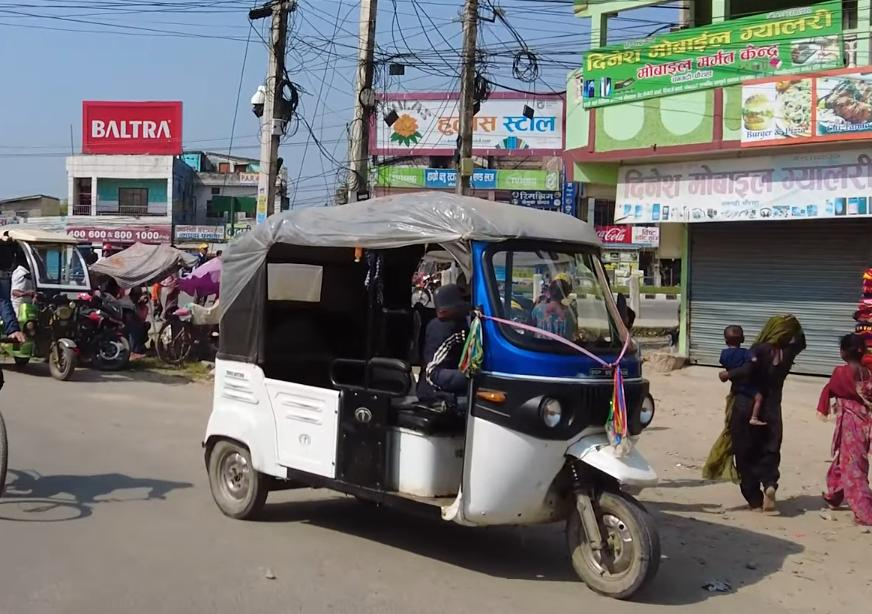auto_rickshaw: (196, 191, 669, 605)
e-rickshaw: (0, 225, 96, 385)
